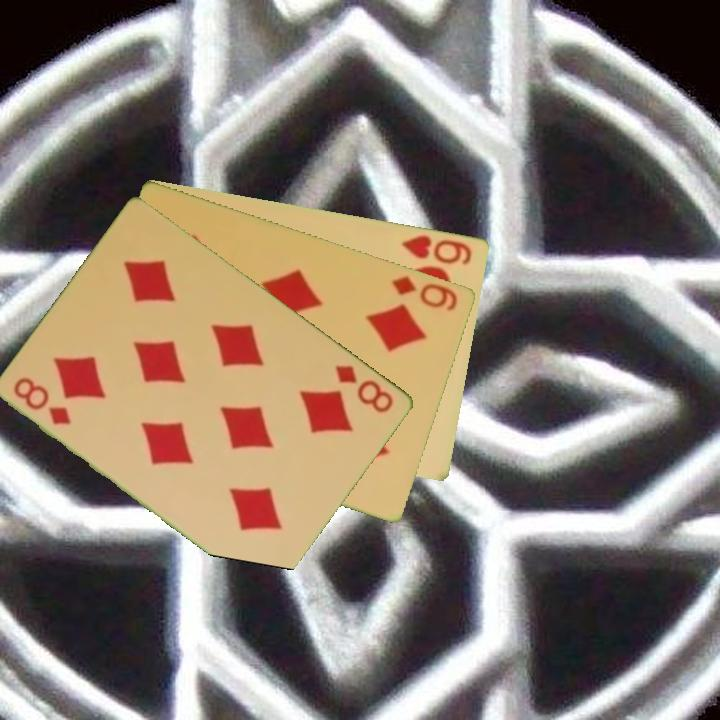6d: (389, 272, 461, 314)
6h: (398, 231, 475, 268)
8d: (332, 361, 397, 416), (10, 373, 75, 428)
